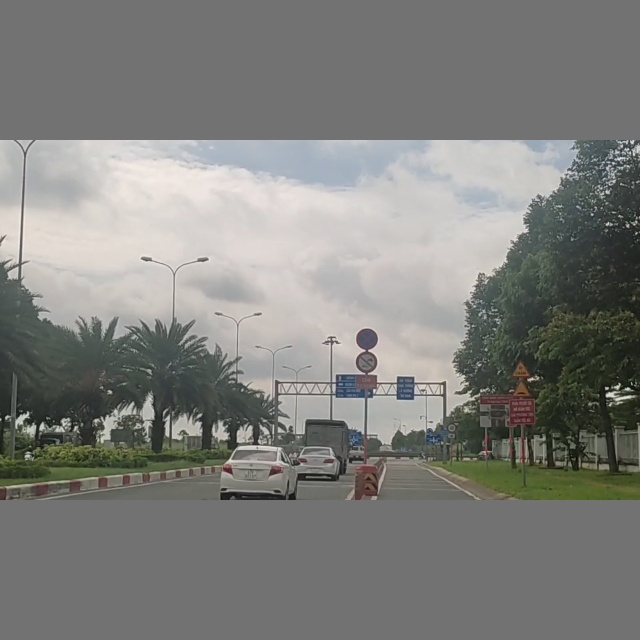P.111: (355, 349, 378, 373)
P.130: (355, 326, 378, 349)
W.221b: (513, 380, 531, 398)
W.245a: (511, 359, 531, 377)
